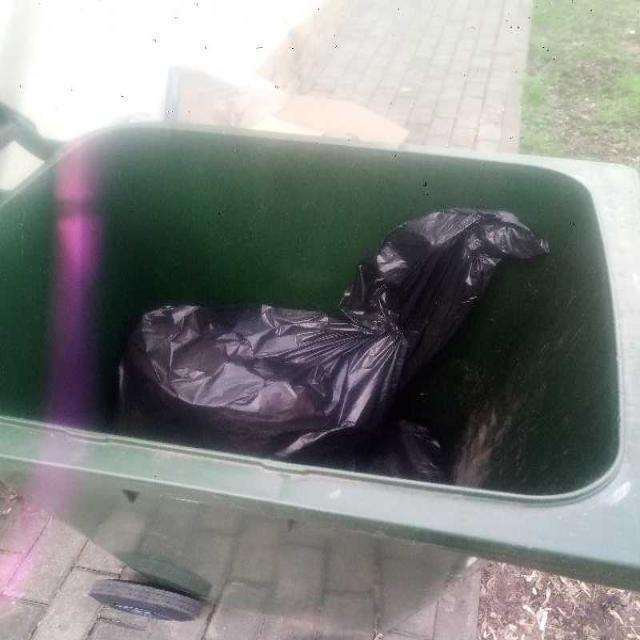Dumpster: (0, 127, 640, 634)
